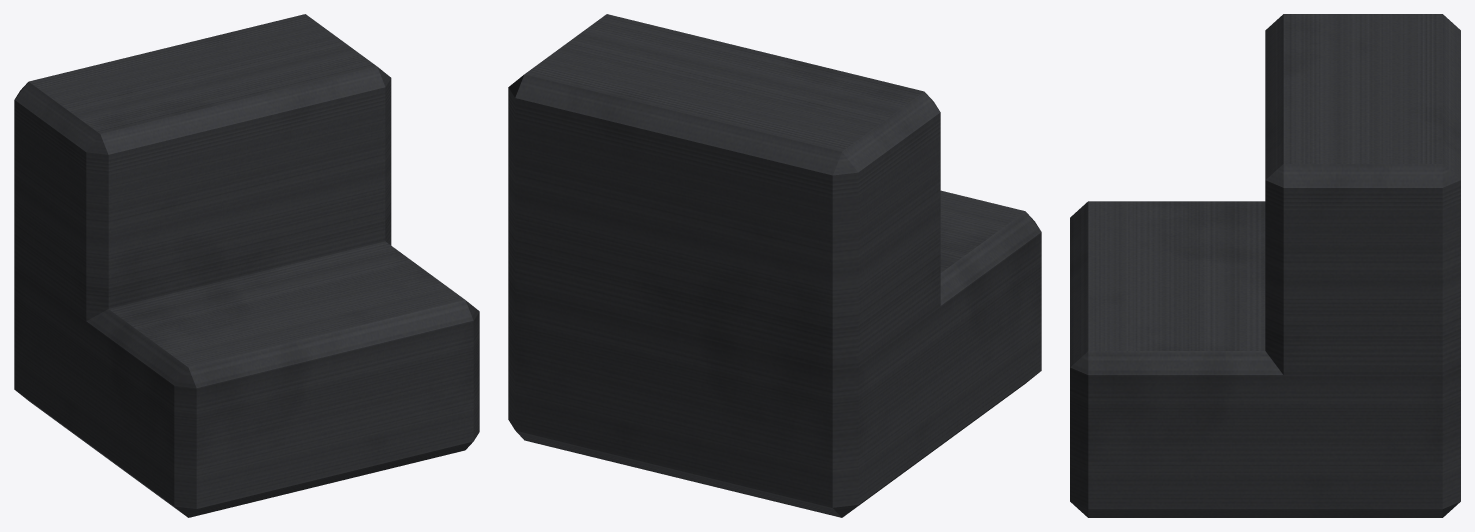
Rendered from R4B_Step_LOD1.glb.
The picture shows the model from 3 angles, left to right: view 1: azimuth 30°, elevation 25°; view 2: azimuth 150°, elevation 25°; view 3: azimuth 270°, elevation 25°; orthographic projection. The views are drawn at different scales.
Visible parts, largest first — view 1: R4B_Step_LOD1; view 2: R4B_Step_LOD1; view 3: R4B_Step_LOD1.
Boxes of the visible parts, x1,y1,x2,y2 form: R4B_Step_LOD1: (14,14,479,517); R4B_Step_LOD1: (508,14,1041,517); R4B_Step_LOD1: (1070,14,1460,517).
Size of the model in its own units: 0.52 by 0.52 by 0.52.
Materials: 1 (1 with a texture image).
